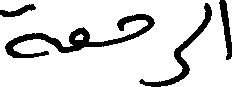ا: (216, 0, 230, 60)
ة: (0, 2, 52, 58)
ح: (117, 11, 152, 45)
ر: (151, 46, 189, 85)
ل: (201, 0, 210, 31)
م: (66, 25, 89, 53)
